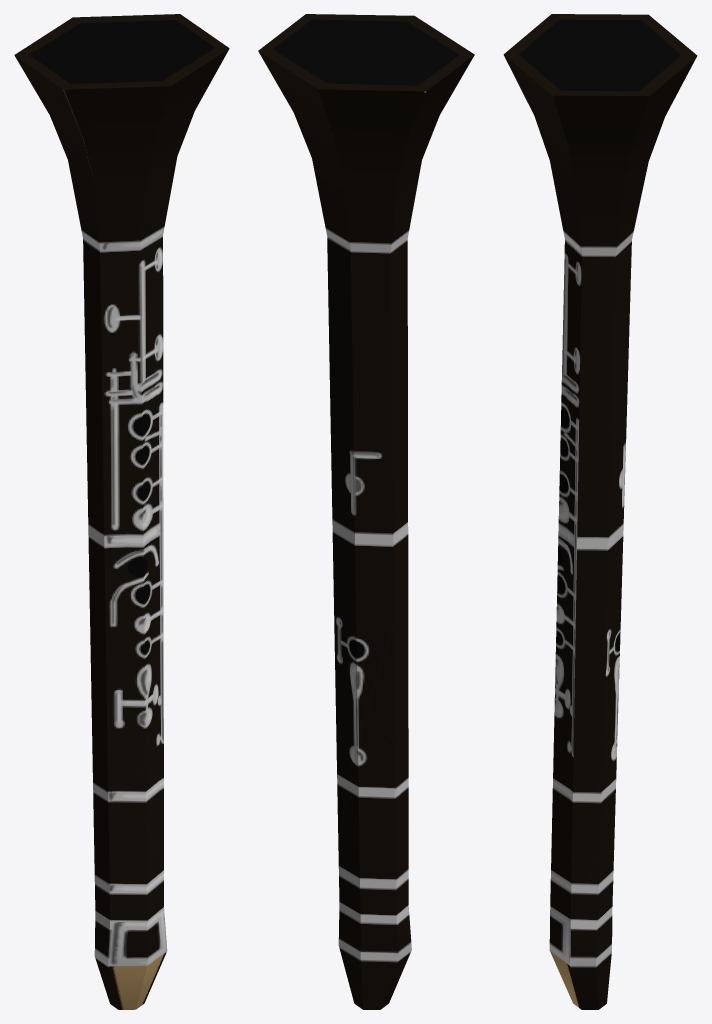
Rendered from Flauta3_000003.obj.
3 renders of one model, left to right at view 1: azimuth 30°, elevation 25°; view 2: azimuth 150°, elevation 25°; view 3: azimuth 270°, elevation 25°, orthographic.
Parts seen in each view (by area): view 1: flauta3_f3_Flauta_3:Flauta_2:Flauta_1:pCylinder3; view 2: flauta3_f3_Flauta_3:Flauta_2:Flauta_1:pCylinder3; view 3: flauta3_f3_Flauta_3:Flauta_2:Flauta_1:pCylinder3.
Boxes of the visible parts, x1,y1,x2,y2 form: flauta3_f3_Flauta_3:Flauta_2:Flauta_1:pCylinder3: [14, 14, 229, 1009]; flauta3_f3_Flauta_3:Flauta_2:Flauta_1:pCylinder3: [258, 14, 474, 1009]; flauta3_f3_Flauta_3:Flauta_2:Flauta_1:pCylinder3: [503, 14, 697, 1009].
Bounding box in the file's own units: 1.07 × 5.8 × 1.07.
